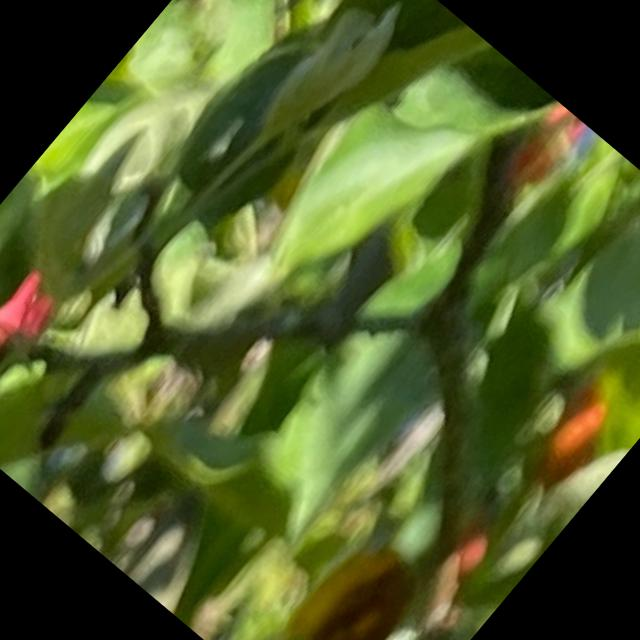Apples: (512, 371, 636, 503), (0, 261, 68, 421), (493, 100, 594, 206)
